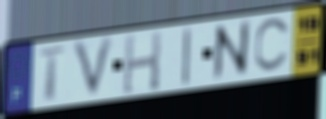C: (253, 15, 293, 75)
H: (120, 29, 164, 96)
I: (180, 25, 193, 89)
N: (212, 18, 251, 85)
T: (35, 45, 70, 103)
V: (70, 33, 118, 103)
